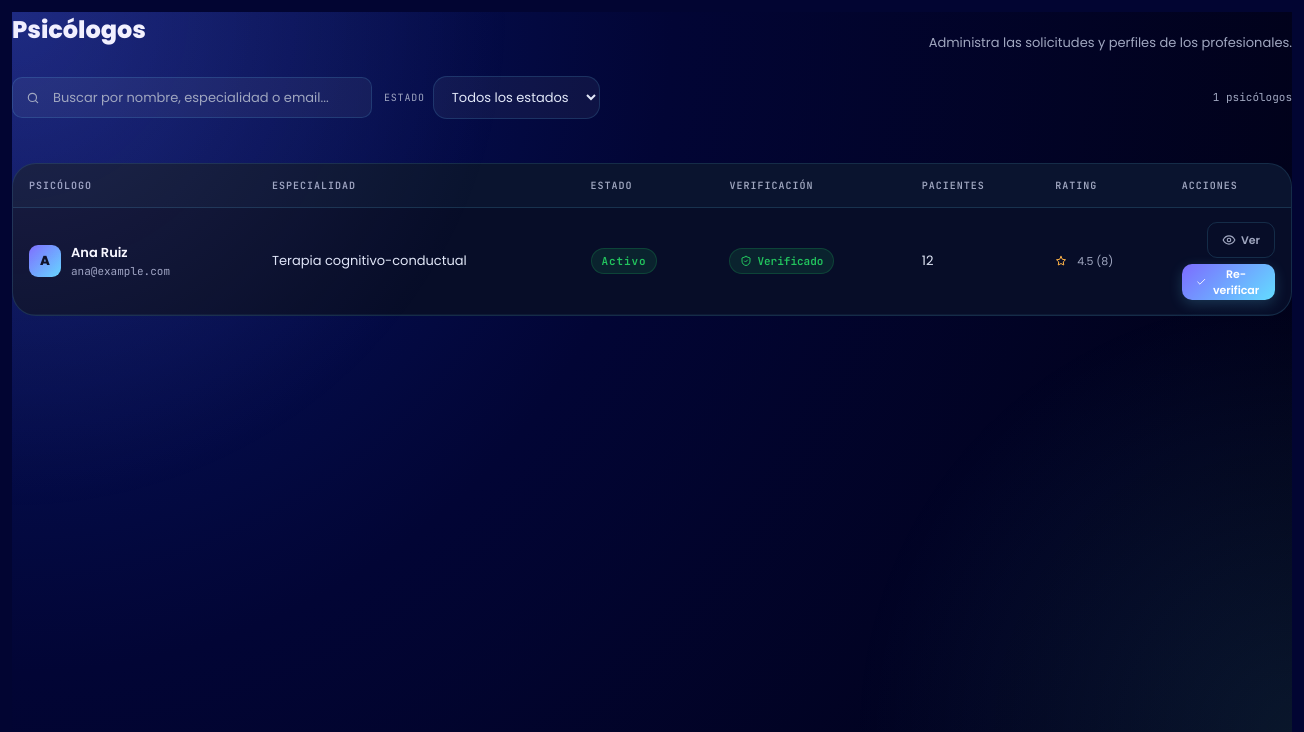
Test case: AdminPsychologistsPage › offers re-verification for an already approved psychologist
Step 1. Click the button "Re-verificar" → (1228,282), box x1=1182 y1=264 x2=1275 y2=300
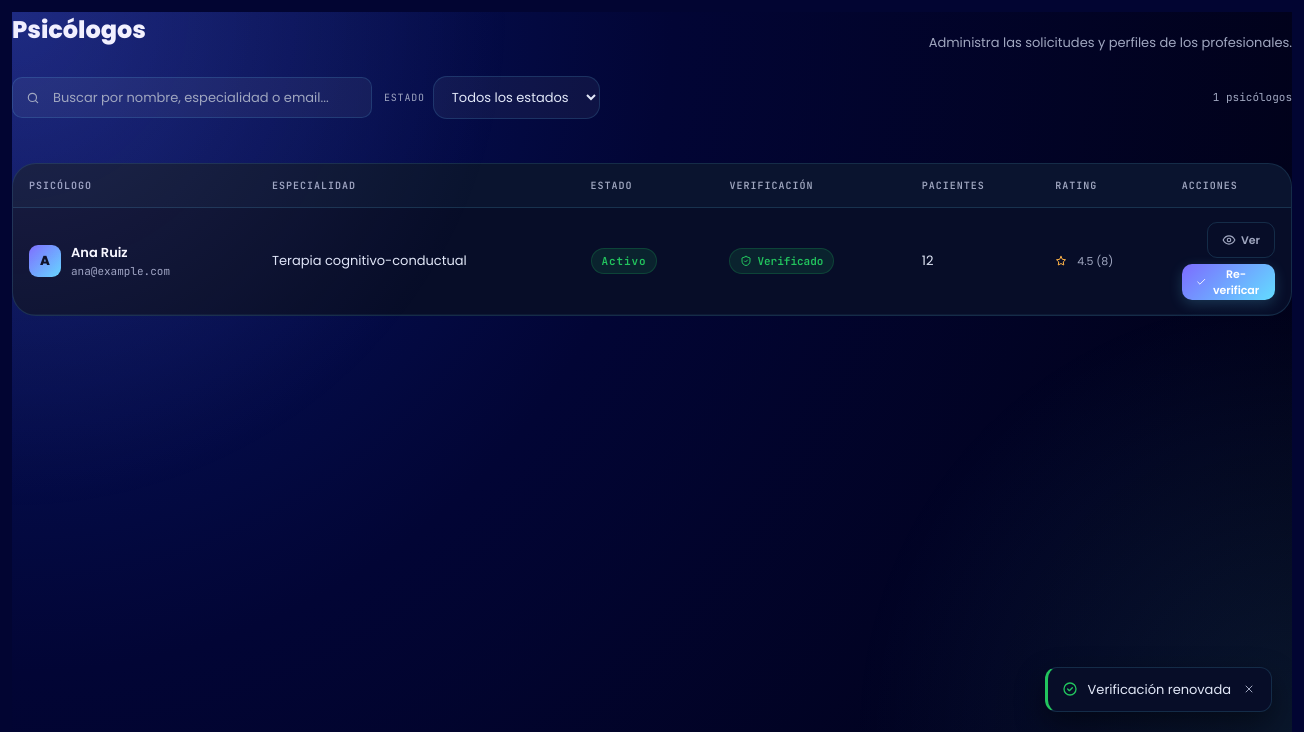
Expected: the text "Verificación renovada" is shown, x1=1088 y1=680 x2=1231 y2=699
